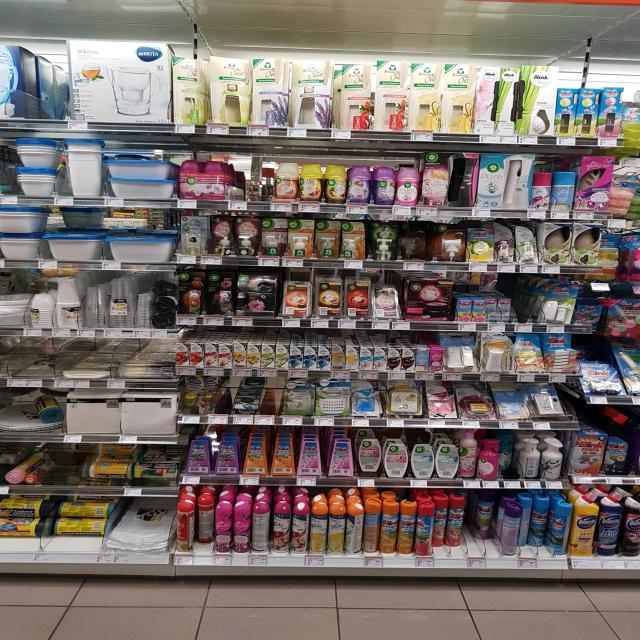empty: (2, 331, 63, 384), (226, 158, 281, 204), (462, 488, 490, 558), (507, 277, 545, 328), (257, 371, 286, 422), (205, 373, 237, 414)
